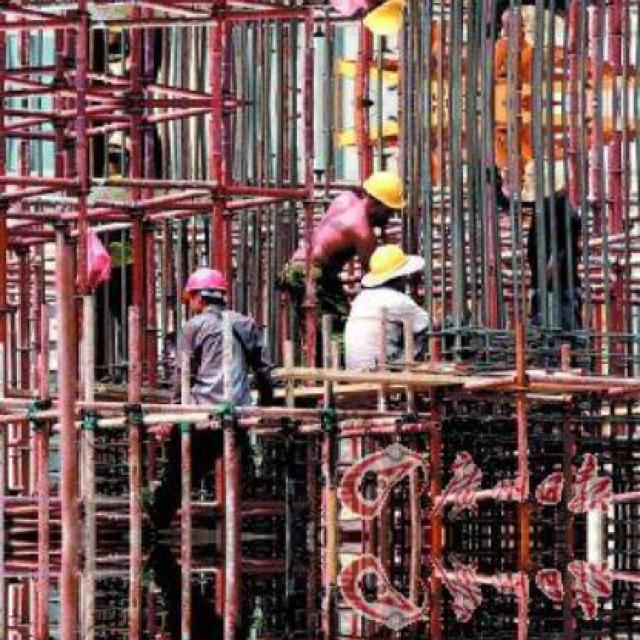helmet: (367, 240, 418, 292), (358, 166, 405, 221), (181, 265, 228, 316), (357, 0, 406, 42)
